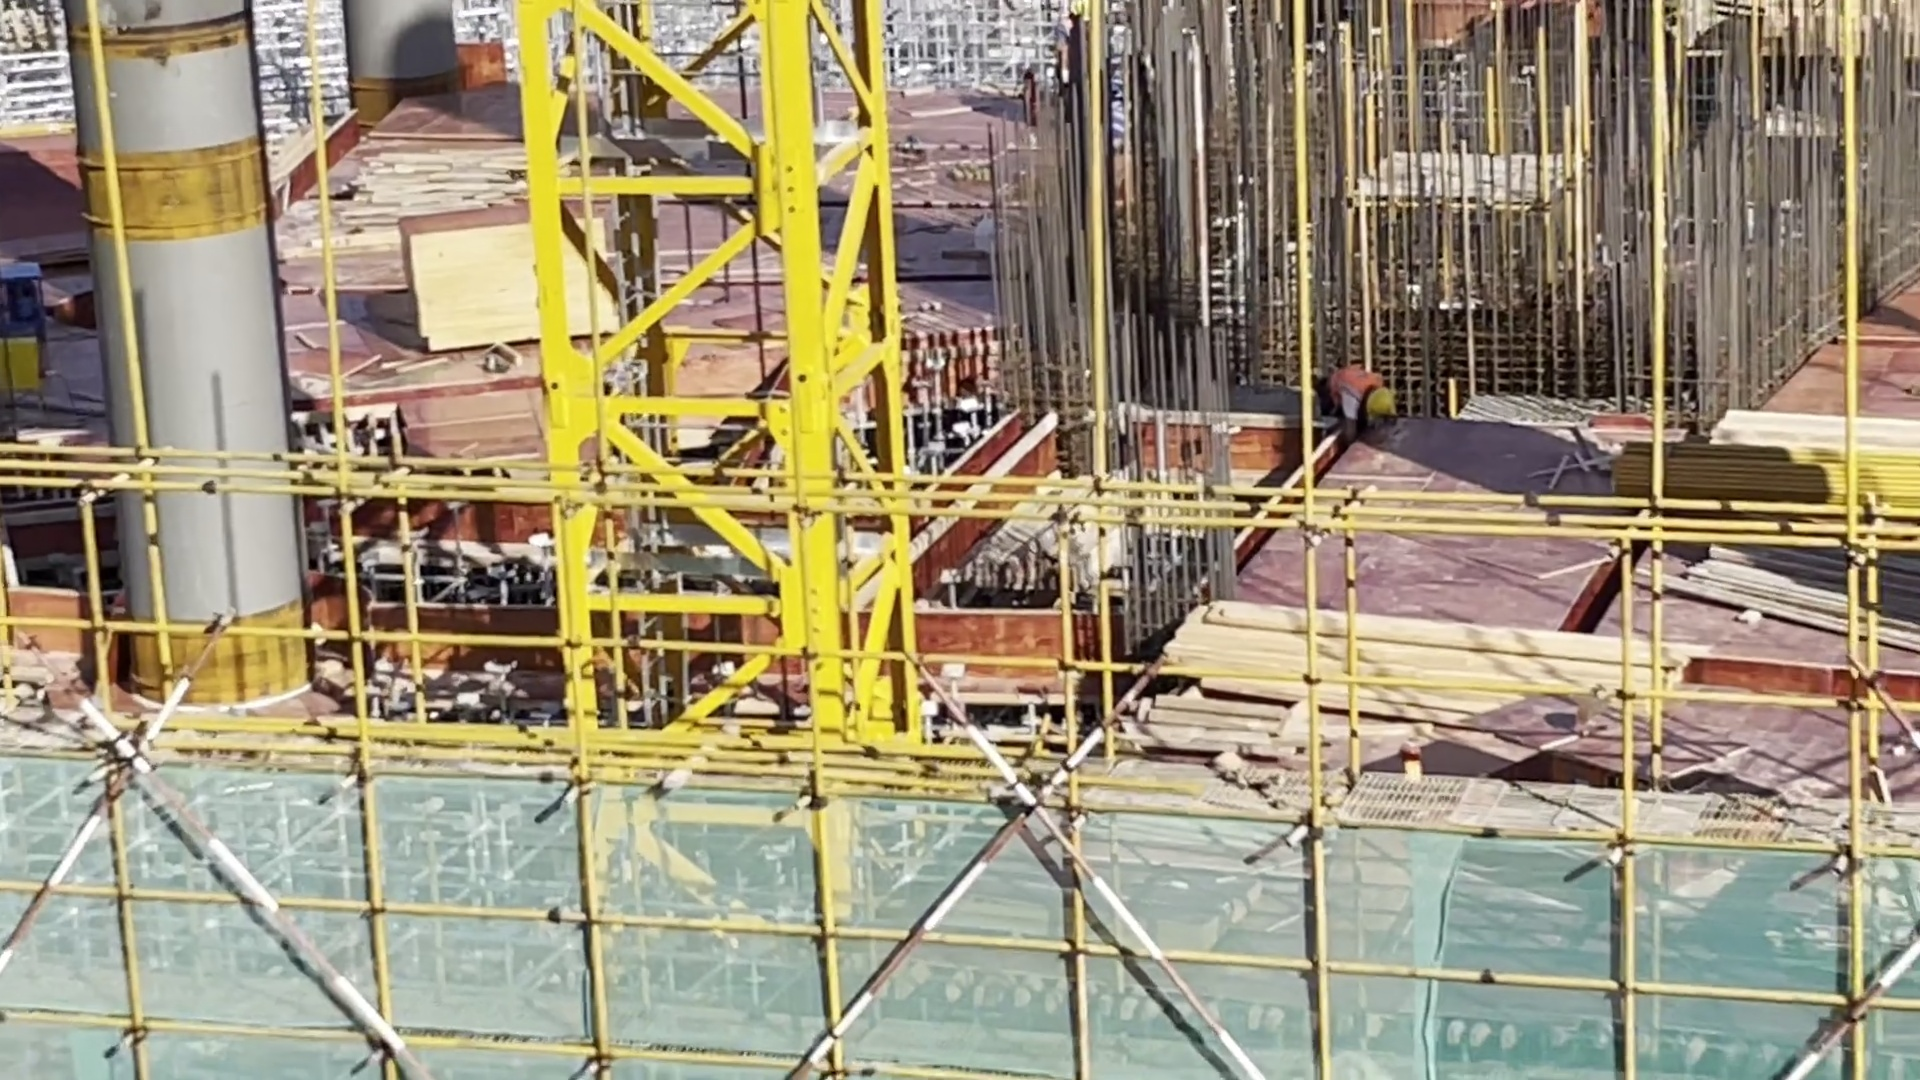board: (402, 205, 634, 369)
helmet: (1356, 379, 1401, 429)
person: (1318, 354, 1412, 451)
vest: (1329, 364, 1384, 422)
wood: (1159, 595, 1693, 730)
